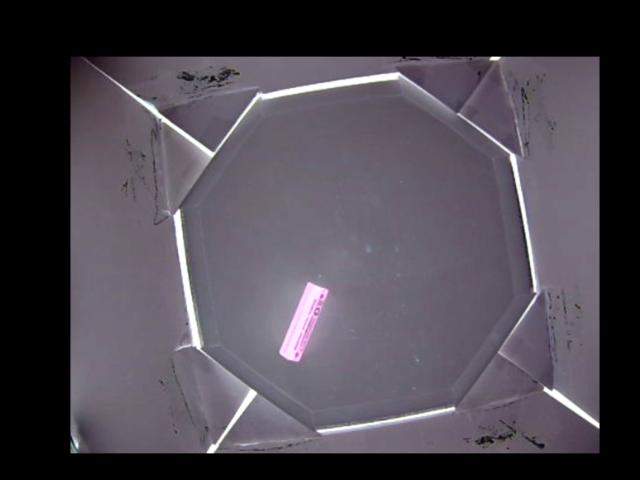Battery: (277, 283, 330, 360)
